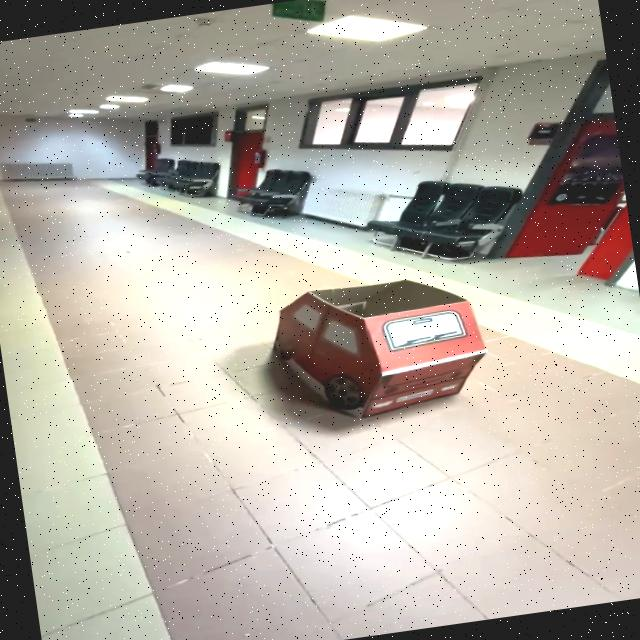red_car: (245, 256, 506, 448)
